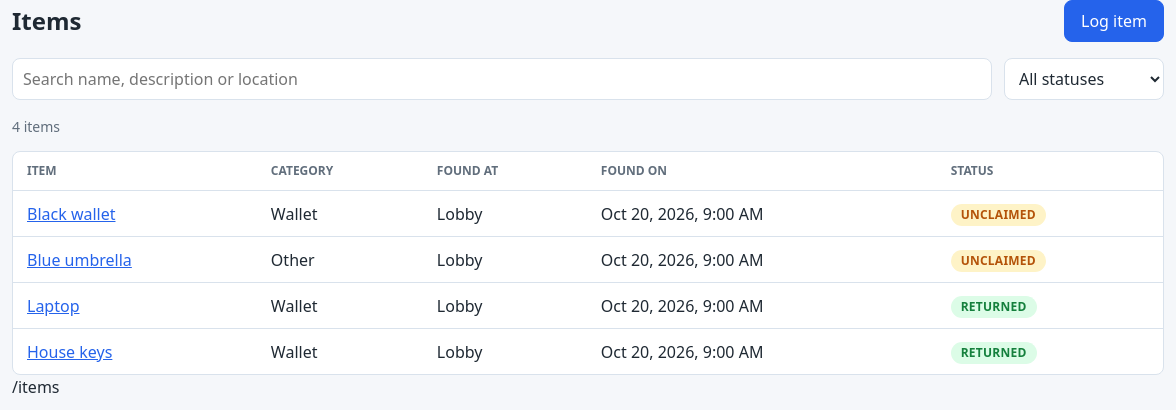
Test: ItemsPage › searches after the user stops typing
Expected: the text "4 items" is shown, [12,117,60,136]
Type "umbrella" into the search field labelled "Search" at (502, 79), box [12,58,992,100]
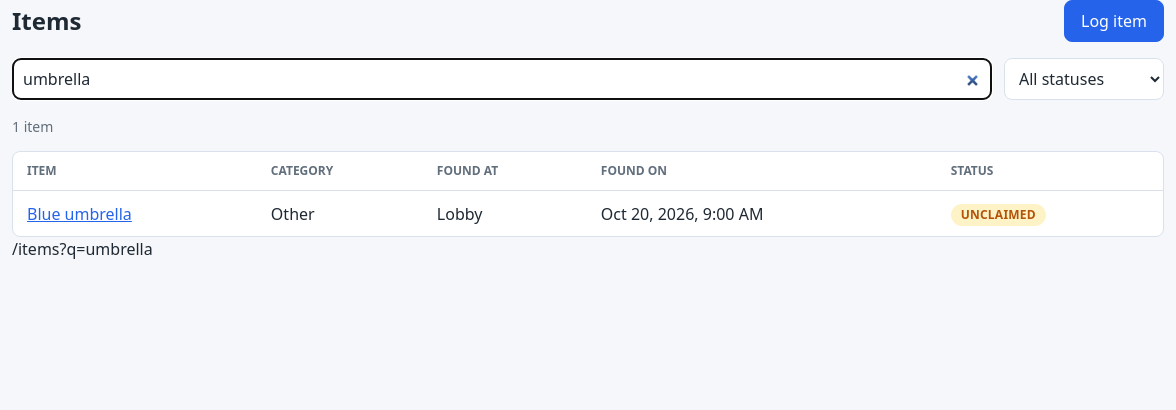
Expected: the link "Blue umbrella" is shown, [27,202,132,224]
Expected: the text "1 item" is shown, [12,117,53,136]
Expected: the text with test id "location" reads "/items?q=umbrella", [12,238,153,260]
